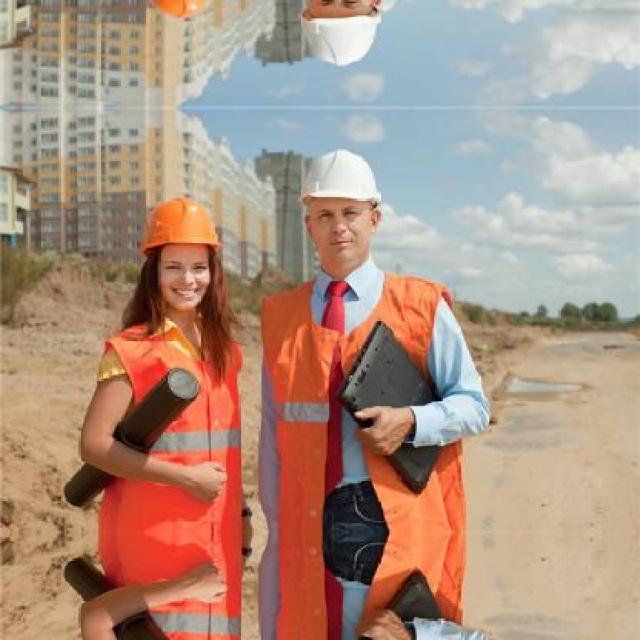helmet: (284, 135, 393, 283), (128, 186, 229, 320), (283, 0, 394, 78), (127, 0, 230, 28)
